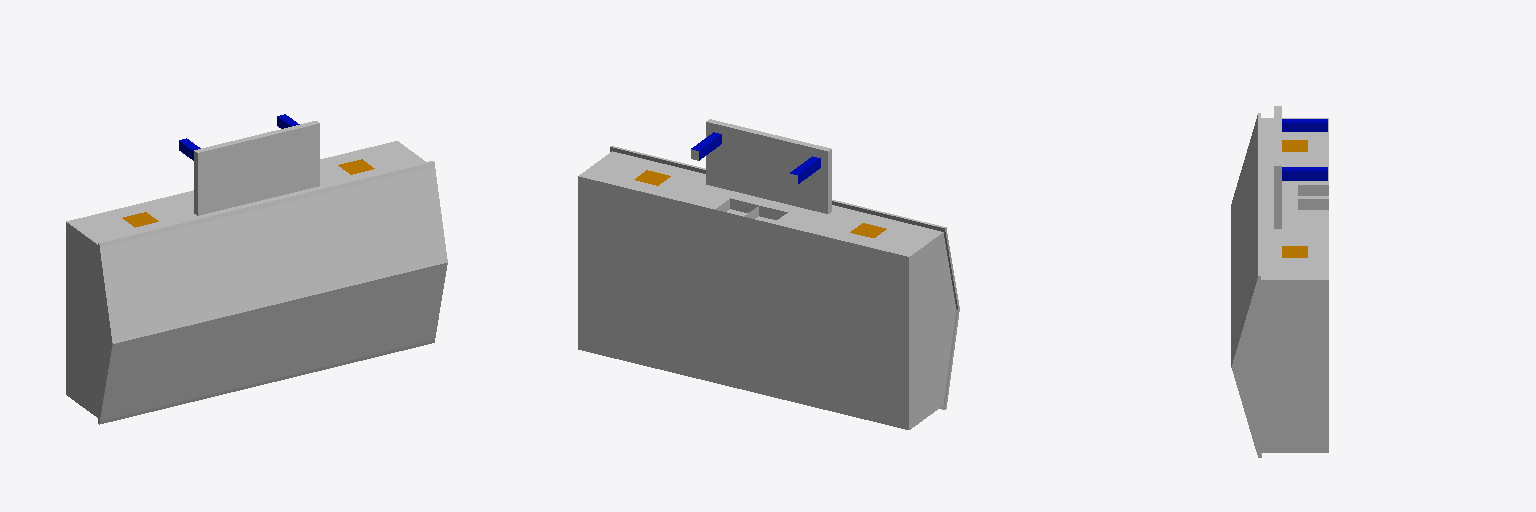
The model's file is shop.obj.
3 views of the same model, side by side, from view 1: azimuth 30°, elevation 25°; view 2: azimuth 150°, elevation 25°; view 3: azimuth 270°, elevation 25° (orthographic).
Parts seen in each view (by area): view 1: Cube; view 2: Cube; view 3: Cube.
Boxes of the visible parts, x1,y1,x2,y2 form: Cube: [66, 114, 447, 424]; Cube: [578, 119, 959, 429]; Cube: [1231, 106, 1328, 457].
Size of the model in its own units: 15.57 by 10.65 by 3.91.